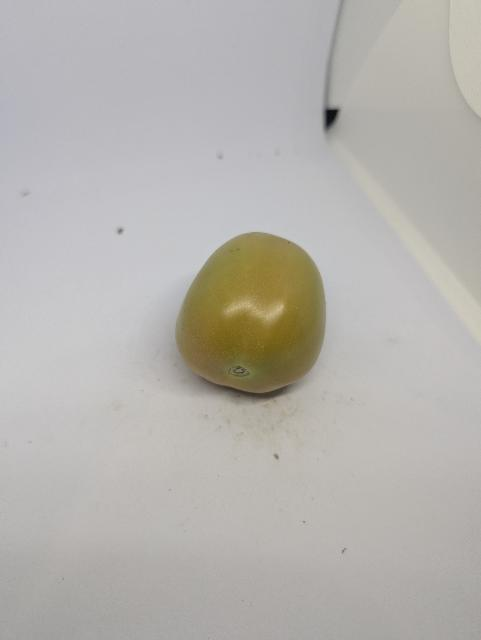breaker: (170, 223, 332, 399)
